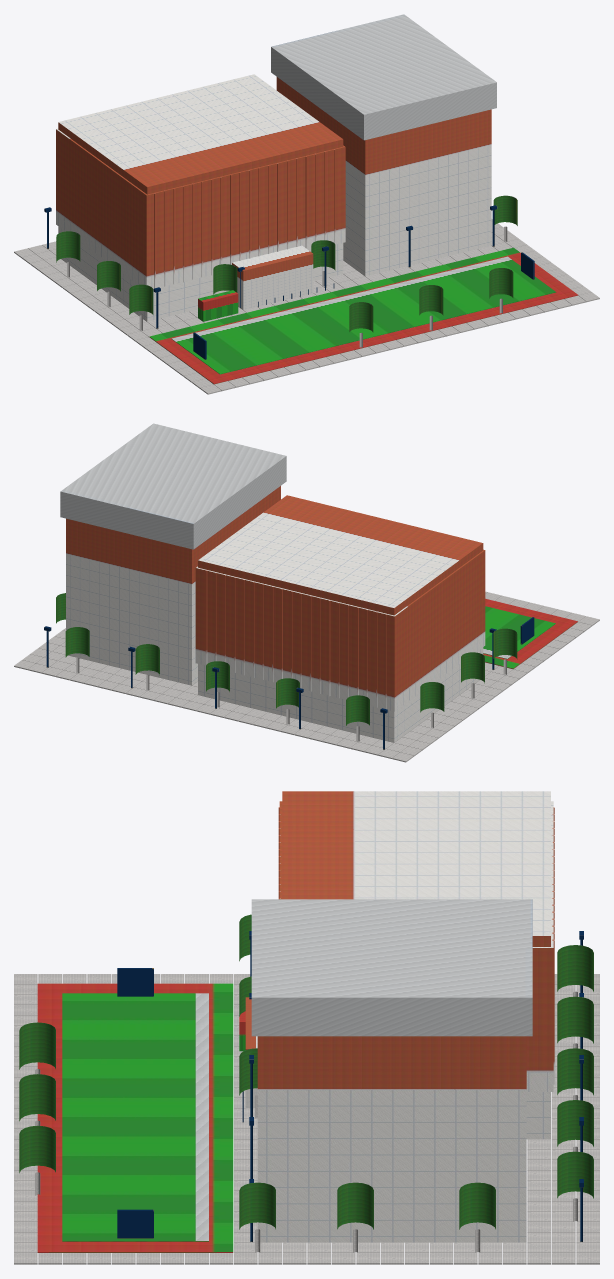
The picture shows the model from 3 angles, top to bottom: view 1: azimuth 30°, elevation 25°; view 2: azimuth 150°, elevation 25°; view 3: azimuth 270°, elevation 25°; orthographic projection. The views are drawn at different scales.
Visible parts, largest first — view 1: 28185_B20_Chadwick_International; view 2: 28185_B20_Chadwick_International; view 3: 28185_B20_Chadwick_International.
Boxes of the visible parts, x1,y1,x2,y2 form: 28185_B20_Chadwick_International: [14, 14, 599, 394]; 28185_B20_Chadwick_International: [14, 423, 599, 762]; 28185_B20_Chadwick_International: [14, 791, 599, 1264].
Size of the model in its own units: 55.95 by 22.5 by 47.95.
Materials: 1 (1 with a texture image).
